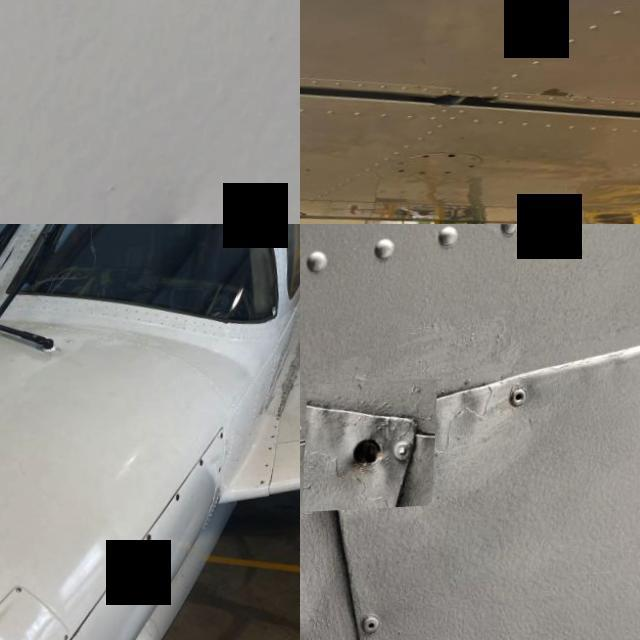Dent: (158, 205, 199, 224)
Missing_Fastener: (305, 382, 439, 514), (400, 172, 409, 177), (452, 158, 461, 162), (264, 487, 270, 492), (270, 452, 276, 456), (274, 440, 280, 444), (276, 431, 280, 434), (278, 423, 282, 426)
